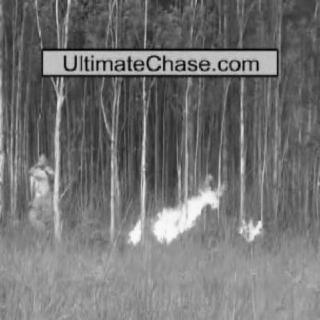Fire: (122, 211, 144, 247)
